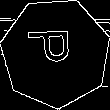P_E: (30, 33, 82, 73)
